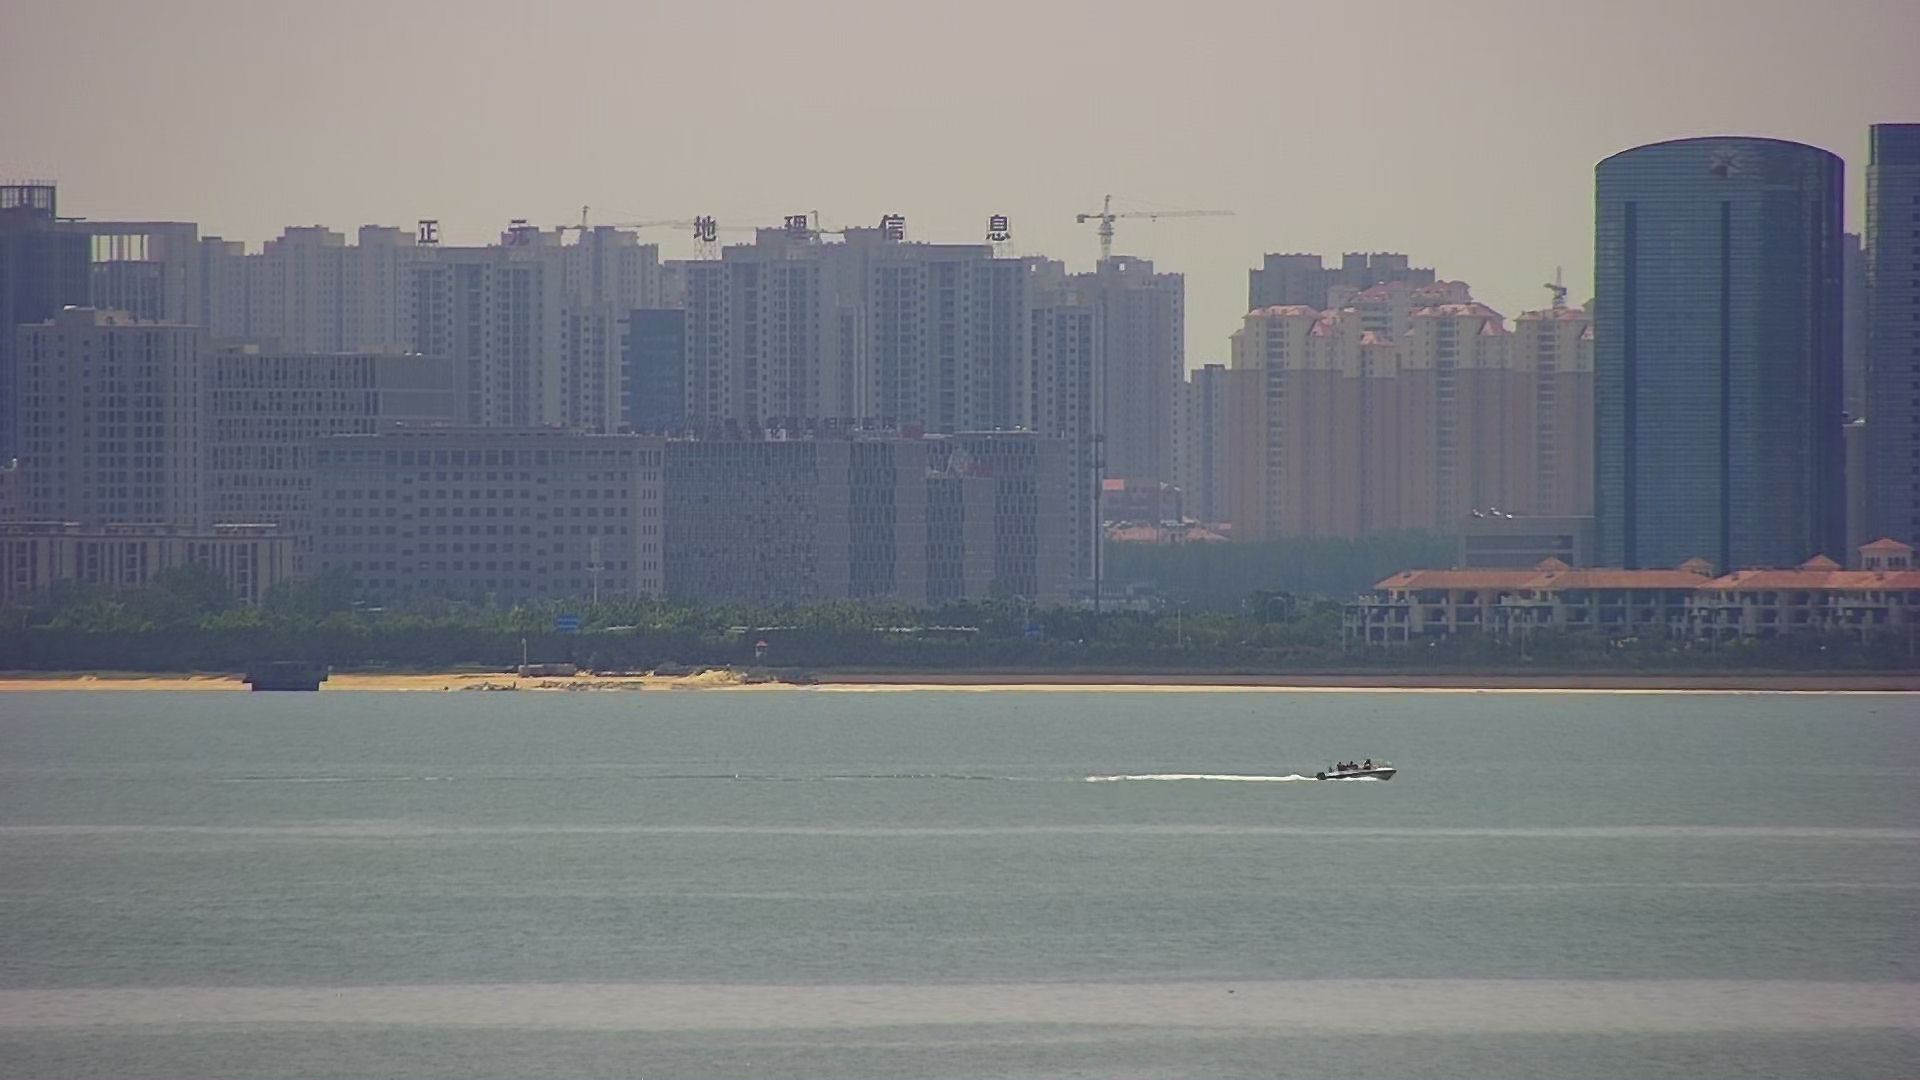boat: (1312, 750, 1399, 786)
